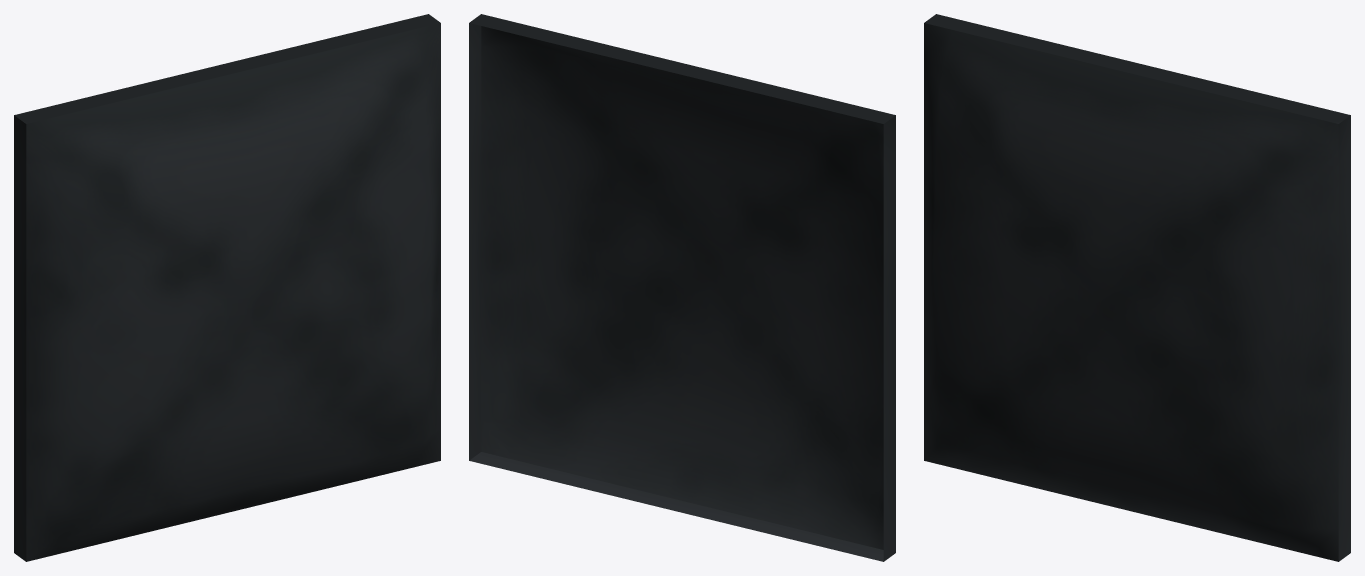
File: Interior_3_scifi_A_BS.fbx
3 renders of one model, left to right at view 1: azimuth 30°, elevation 25°; view 2: azimuth 150°, elevation 25°; view 3: azimuth 330°, elevation 25°, orthographic.
Parts seen in each view (by area): view 1: Interior_3_scifi_A_BS; view 2: Interior_3_scifi_A_BS; view 3: Interior_3_scifi_A_BS.
Part boxes in pixels (bbox=[...]): Interior_3_scifi_A_BS: bbox=[14, 14, 440, 561]; Interior_3_scifi_A_BS: bbox=[469, 14, 895, 561]; Interior_3_scifi_A_BS: bbox=[924, 14, 1350, 561].
Bounding box in the file's own units: 195 × 196 × 29.81.
1 material, 1 textured.
